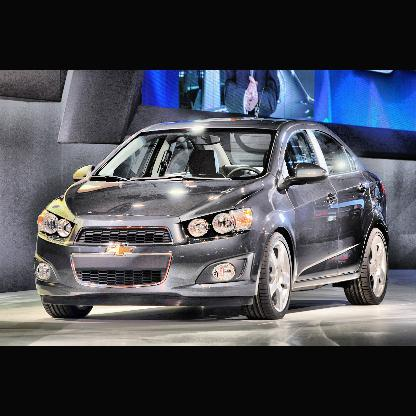Chevrolet Sonic Sedan 2012: (35, 117, 392, 318)
